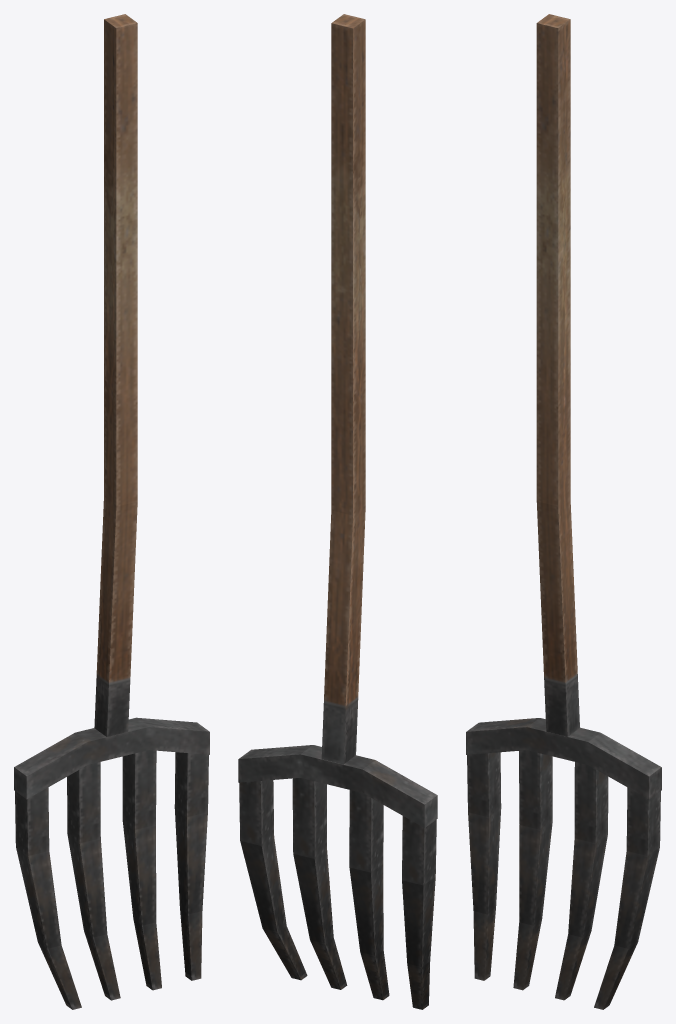
Rendered from Pitchfork.fbx.
The picture shows the model from 3 angles, left to right: view 1: azimuth 30°, elevation 25°; view 2: azimuth 150°, elevation 25°; view 3: azimuth 330°, elevation 25°; orthographic projection.
Parts seen in each view (by area): view 1: Pitchfork; view 2: Pitchfork; view 3: Pitchfork.
Boxes of the visible parts, <box> form: Pitchfork: <box>14,14,209,1009</box>; Pitchfork: <box>238,14,437,1009</box>; Pitchfork: <box>466,14,661,1009</box>.
Size of the model in its own units: 31.95 by 160 by 9.46.
